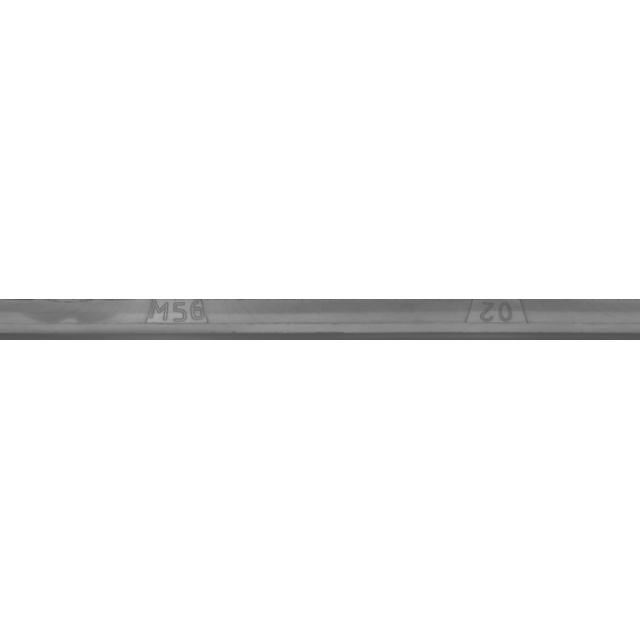mohao: (69, 270, 269, 370)
xuehao: (395, 270, 595, 370)
